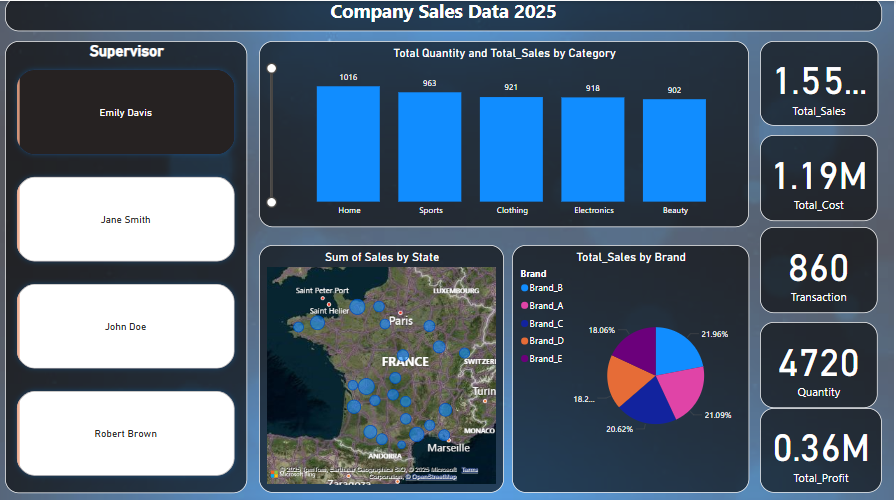

This screenshot's page, from the dashboard's own definition file:
{"tool":"powerbi","page":{"name":"Page 1","canvas":[1280,720],"ordinal":0},"visuals":[{"type":"textbox","box":[10.1,0,1253.1,48.7],"z":0},{"type":"card","fields":{"Values":["Orders Data.Total_Sales"]},"box":[1088.6,62.9,168.6,121.4],"z":1000},{"type":"card","fields":{"Values":["Orders Data.Total_Cost"]},"box":[1088.5,196.5,168,122.6],"z":2000},{"type":"card","fields":{"Values":["Orders Data.Quantity"]},"box":[1088.5,463.6,168,122.6],"z":3000},{"type":"card","fields":{"Values":["Orders Data.Order_Number"]},"box":[1088.5,329.2,168,122.6],"z":4000},{"type":"card","fields":{"Values":["Orders Data.Total_Profit"]},"box":[1088.6,587.1,174.3,121.4],"z":5000},{"type":"clusteredColumnChart","fields":{"Y":["Orders Data.Quantity"],"Category":["Orders Data.Category"]},"box":[372.8,62.4,700.2,266.5],"z":6000},{"type":"pieChart","fields":{"Y":["Orders Data.Total_Sales"],"Category":["Orders Data.Brand"]},"box":[734.3,354.3,338.6,354.3],"z":7000},{"type":"map","fields":{"Category":["State List.State"],"Size":["Orders Data.Sales"]},"box":[372.9,354.3,350,354.3],"z":8000},{"type":"advancedSlicerVisual","fields":{"Values":["Supervisors.Supervisor"]},"box":[10,62.9,345.7,645.7],"z":9000}]}

Visuals, with their boxes in screenshot pixels (x1, y1, x2, y2), scaled from the page's 1280x720 canvas onto the 896x500 screenshot:
textbox: (7, 0, 884, 34)
card - Orders Data.Total_Sales: (762, 44, 880, 128)
card - Orders Data.Total_Cost: (762, 136, 880, 222)
card - Orders Data.Quantity: (762, 322, 880, 407)
card - Orders Data.Order_Number: (762, 229, 880, 314)
card - Orders Data.Total_Profit: (762, 408, 884, 492)
clusteredColumnChart - Orders Data.Quantity x Orders Data.Category: (261, 43, 751, 228)
pieChart - Orders Data.Total_Sales x Orders Data.Brand: (514, 246, 751, 492)
map - State List.State x Orders Data.Sales: (261, 246, 506, 492)
advancedSlicerVisual - Supervisors.Supervisor: (7, 44, 249, 492)
